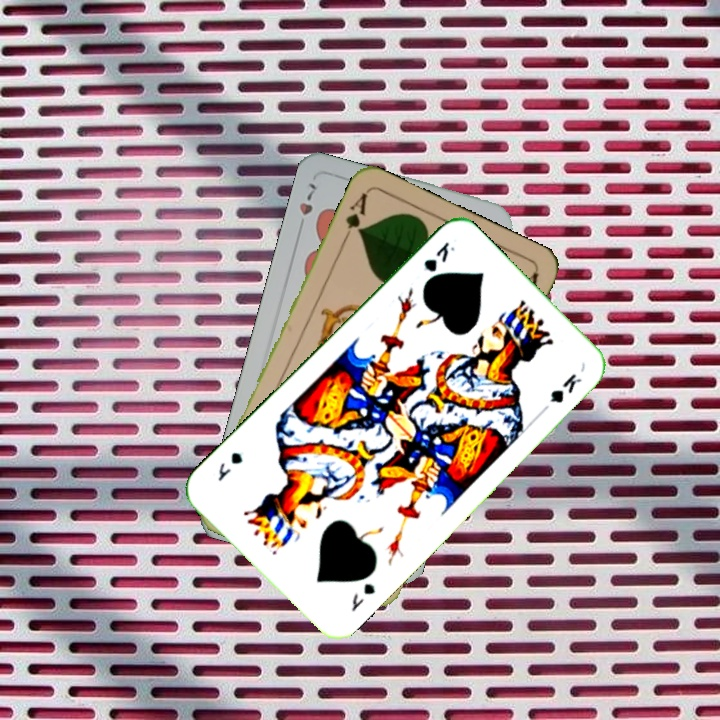GA: (338, 188, 371, 244)
GK: (419, 237, 458, 275), (347, 579, 378, 615)
H7: (295, 178, 319, 234)
